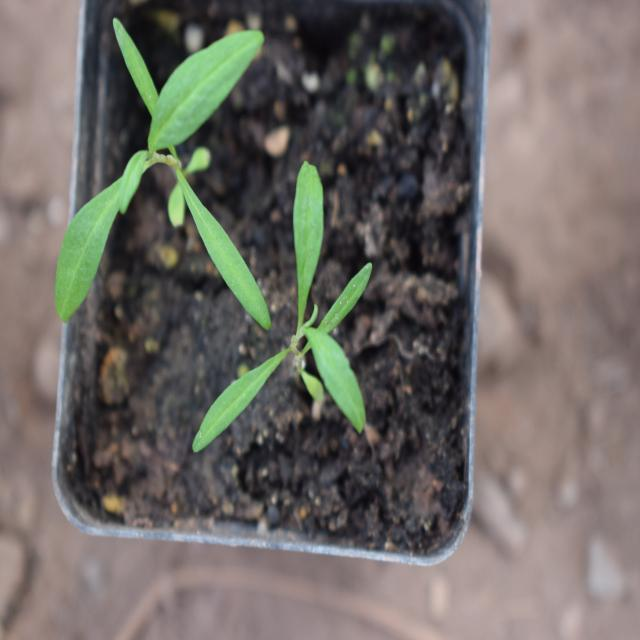white_smart_weed: (43, 22, 302, 354), (208, 184, 403, 443)
